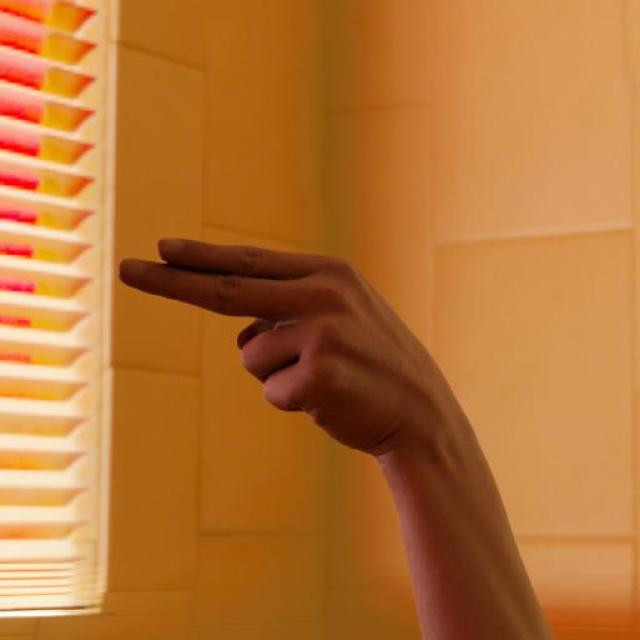H: (113, 233, 488, 457)
